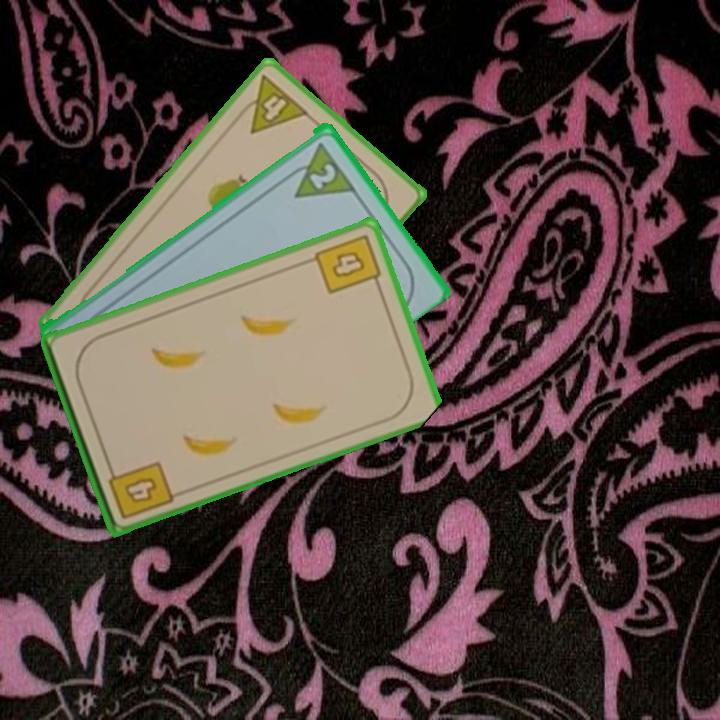2p: (305, 159, 340, 192)
4b: (311, 230, 384, 297), (103, 457, 176, 522)
4p: (231, 70, 312, 137)
